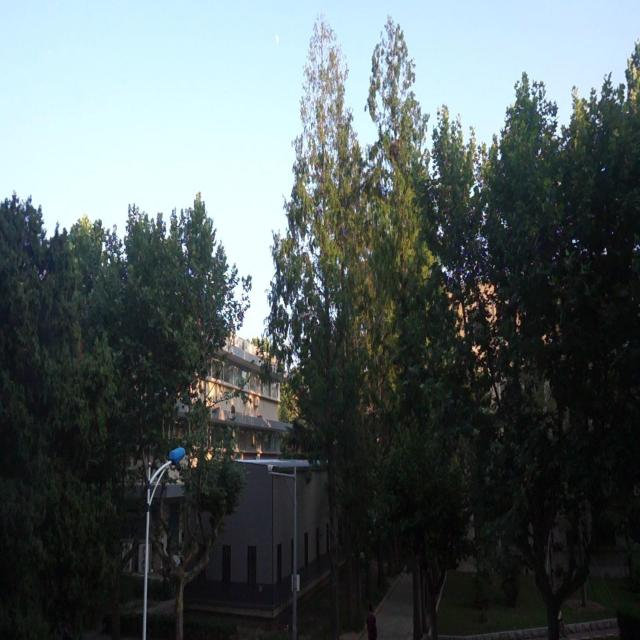UAV: (300, 306, 317, 320)
